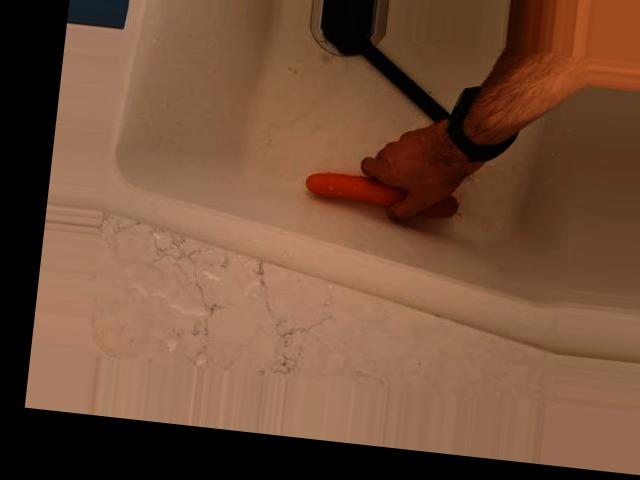carrot: (305, 167, 461, 218)
